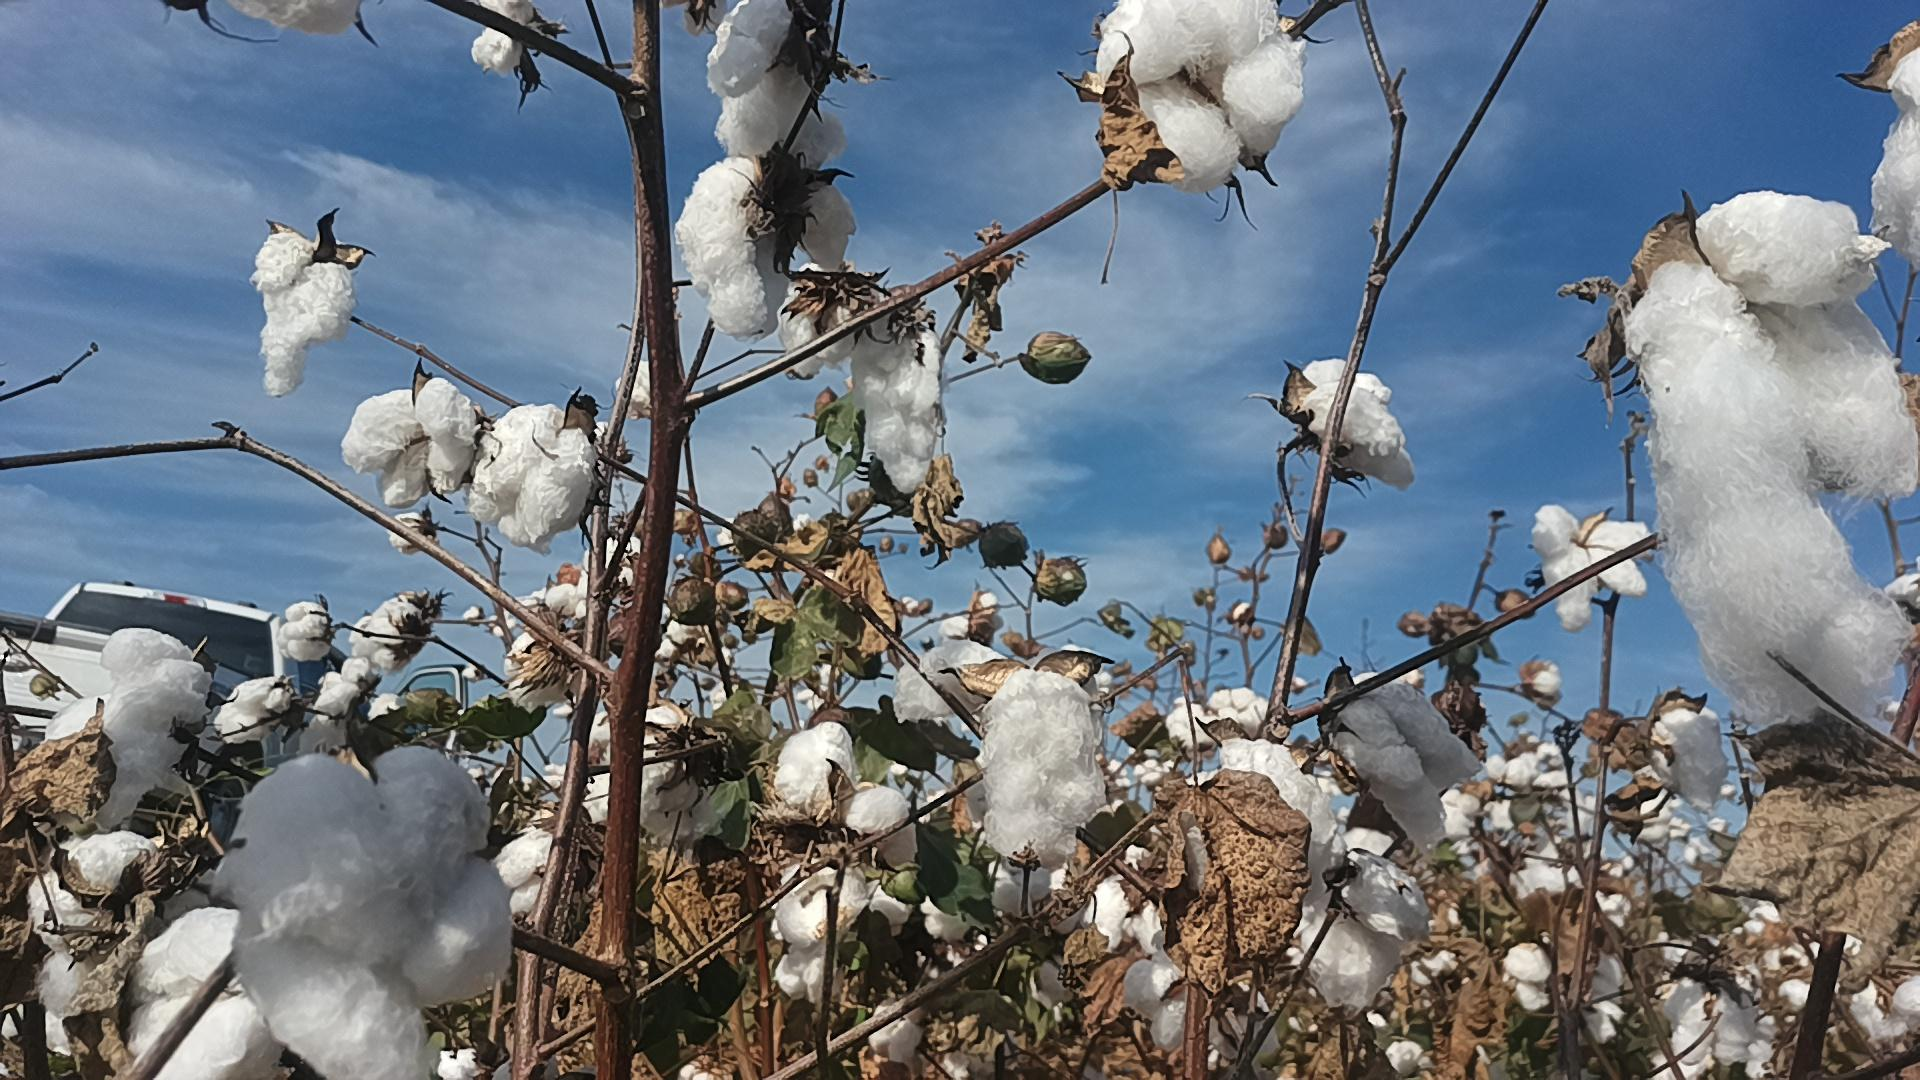cotton_ready: (1623, 189, 1920, 725), (216, 741, 518, 1080), (218, 745, 518, 1080), (1221, 736, 1423, 1009), (894, 641, 1106, 865), (1092, 0, 1305, 186), (779, 265, 940, 496), (674, 154, 856, 344), (50, 630, 211, 829), (1321, 670, 1474, 855), (30, 832, 174, 1022), (137, 905, 273, 1080), (708, 0, 849, 161), (1122, 931, 1282, 1065), (471, 405, 601, 556), (342, 378, 481, 506), (1288, 356, 1416, 488), (256, 231, 352, 396), (634, 698, 741, 843), (775, 723, 905, 833), (1532, 506, 1648, 626), (774, 866, 864, 1005), (1869, 50, 1920, 269), (1073, 844, 1168, 961), (1642, 702, 1733, 803), (191, 0, 375, 38), (978, 848, 1072, 922), (348, 592, 422, 671), (476, 0, 549, 70), (216, 674, 291, 738), (316, 654, 373, 719), (280, 600, 332, 661), (618, 359, 653, 413)
